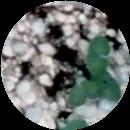Basil: (90, 34, 111, 76), (94, 71, 122, 101), (67, 79, 93, 104)
